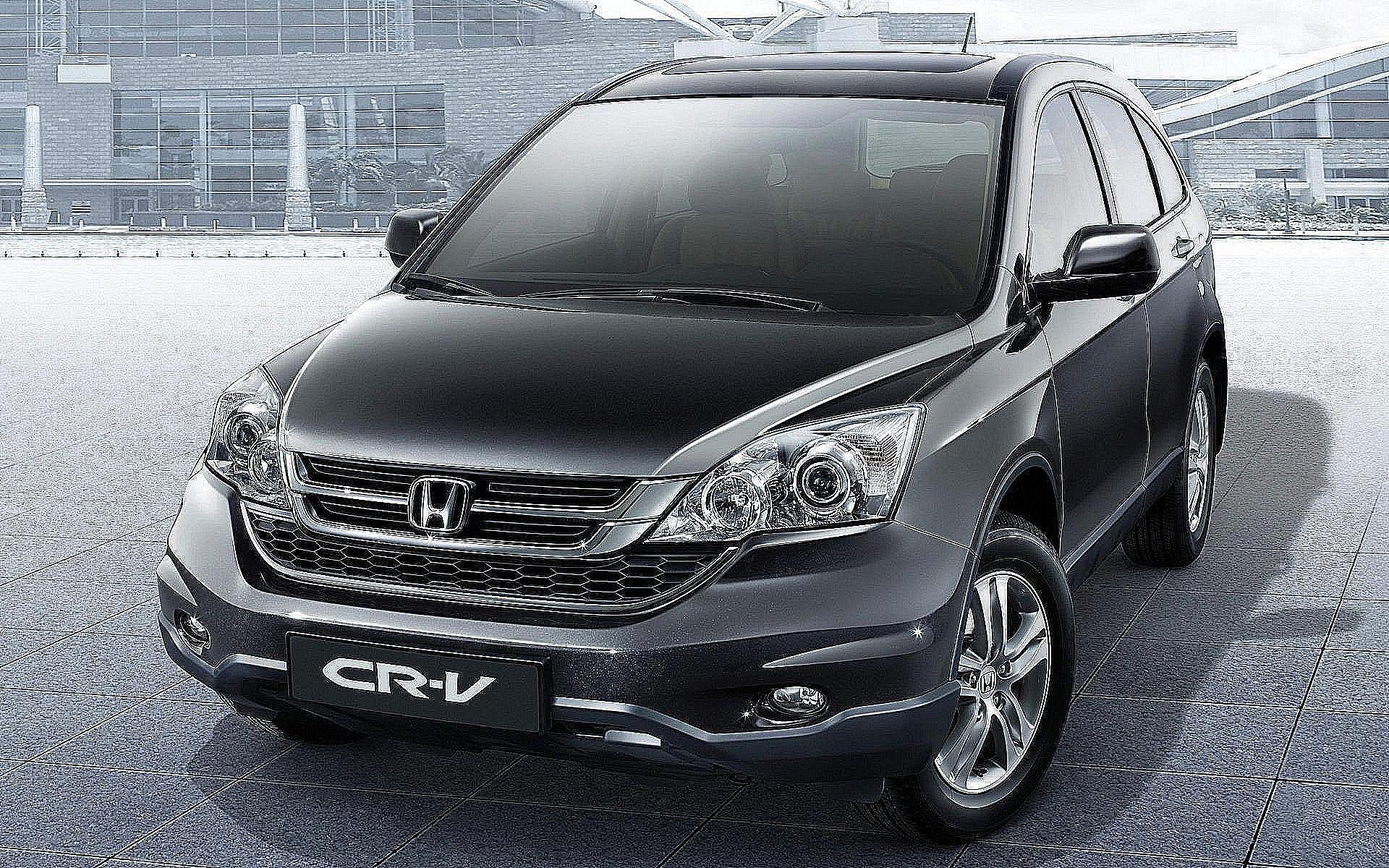Car hood: (249, 284, 967, 479)
Fender - -F-L-: (873, 287, 1071, 598)
Front bumper: (158, 475, 979, 777)
Headlight - -L-: (638, 404, 926, 552)
Headlight - -R-: (194, 359, 297, 522)
Passenger-s door - -F-L-: (1007, 28, 1159, 592)
Passenger-s door - -R-L-: (1072, 39, 1205, 534)
Side bumper - -L-: (1042, 427, 1187, 617)
Side mirror - -L-: (1015, 222, 1159, 337)
Side mirror - -R-: (382, 201, 446, 270)
